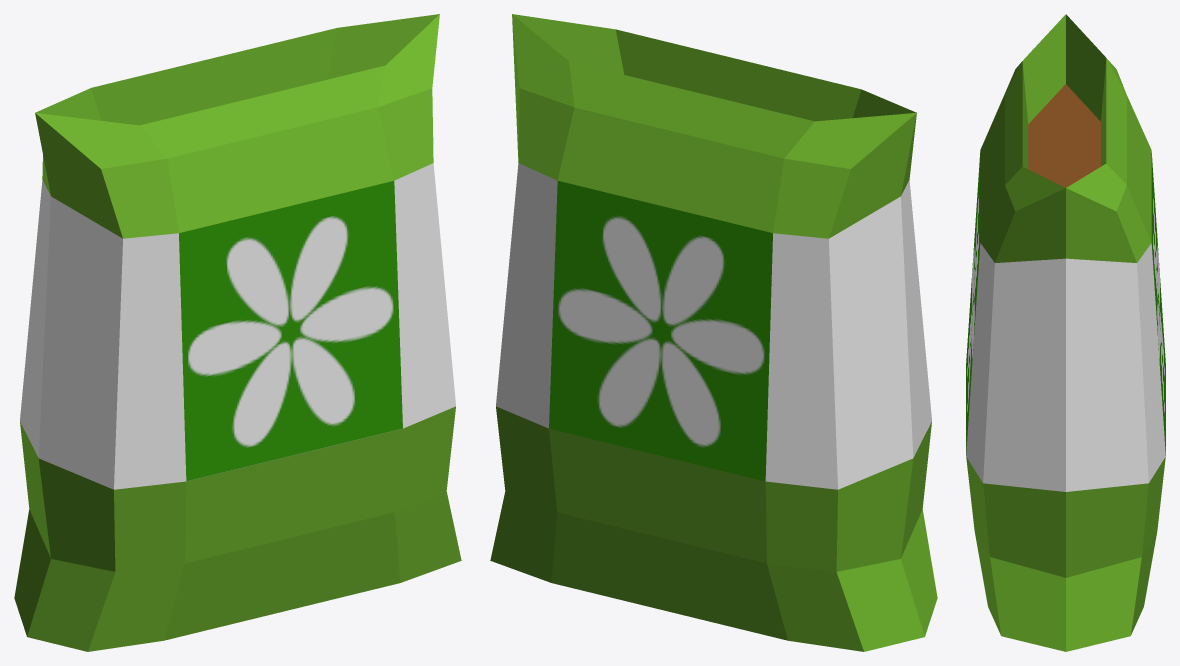
File: Fertilizer Bag.fbx
The picture shows the model from 3 angles, left to right: view 1: azimuth 30°, elevation 25°; view 2: azimuth 150°, elevation 25°; view 3: azimuth 270°, elevation 25°; orthographic projection. The views are drawn at different scales.
Parts seen in each view (by area): view 1: Fertilizer Bag 01 Open; view 2: Fertilizer Bag 01 Open; view 3: Fertilizer Bag 01 Open.
Boxes of the visible parts, box(x1,y1,x2,y2) form: Fertilizer Bag 01 Open: box(14, 14, 461, 651); Fertilizer Bag 01 Open: box(490, 14, 937, 651); Fertilizer Bag 01 Open: box(966, 14, 1165, 651).
Size of the model in its own units: 0.9365 by 1.11 by 0.4359.
